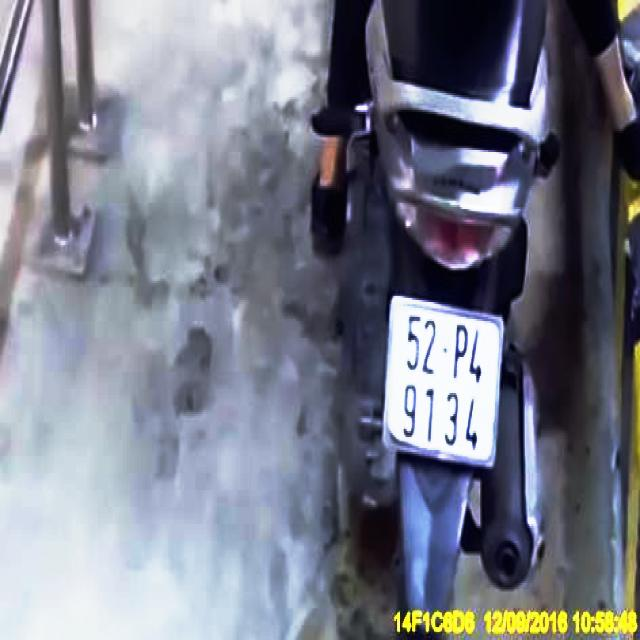license_plate: (388, 303, 505, 463)
